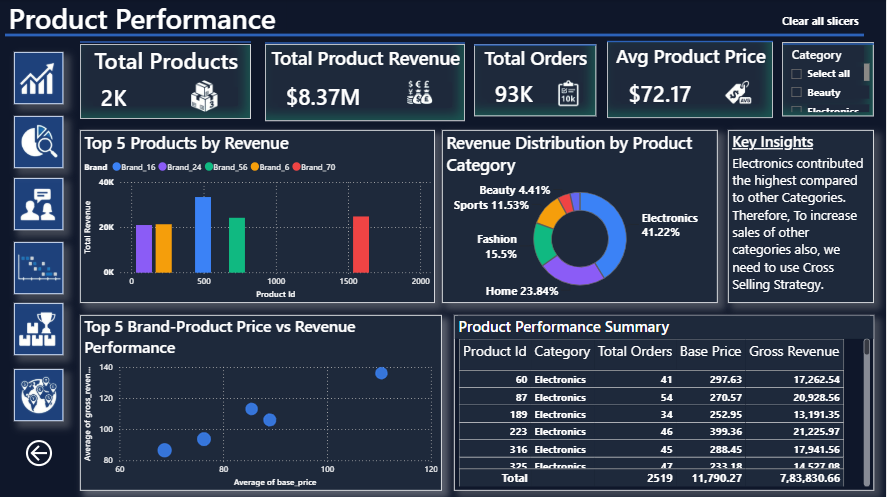

The dashboard page shown, as its layout file describes it:
{"tool":"powerbi","page":{"name":"Product Performance","canvas":[1280,720],"ordinal":5},"visuals":[{"type":"cardVisual","title":"Total Products","fields":{"Data":["Count(transactions.product_id)"]},"box":[118.1,64.8,246.2,108],"z":0},{"type":"textbox","title":"Product Performance","box":[10.1,0,404.6,51.8],"z":1000},{"type":"shape","box":[10.1,44.6,1237,14.4],"z":2000},{"type":"shape","box":[118.1,44.6,246.2,34.6],"z":3000},{"type":"cardVisual","title":"Total Product Revenue","fields":{"Data":["Sum(transactions.gross_revenue)"]},"box":[384.5,64.8,288,110.9],"z":4000},{"type":"shape","box":[384.5,46.1,288,34.6],"z":5000},{"type":"cardVisual","title":"Total Orders","fields":{"Data":["Count(transactions.transaction_id)"]},"box":[685.4,64.8,175.7,103.7],"z":6000},{"type":"shape","box":[685.4,49,175.7,34.6],"z":7000},{"type":"cardVisual","title":"Avg Product Price","fields":{"Data":["Avg(products (1).base_price)"]},"box":[877,60.5,239,110.9],"z":8000},{"type":"shape","box":[877,46.1,239,30.2],"z":9000},{"type":"columnChart","title":"Top 5 Products by Revenue","fields":{"Category":["products (1).product_id"],"Series":["products (1).brand"],"Y":["Sum(transactions.gross_revenue)"]},"box":[118.1,188.6,511.2,249.1],"z":10000},{"type":"donutChart","title":"Revenue Distribution by Product Category","fields":{"Category":["products (1).category"],"Y":["Sum(transactions.gross_revenue)"]},"box":[639.4,188.6,397.4,249.1],"z":11000},{"type":"scatterChart","title":"Top 5 Brand-Product Price vs Revenue Performance","fields":{"Category":["products (1).brand"],"Size":["Count(transactions.transaction_id)"],"X":["Avg(products (1).base_price)"],"Y":["Avg(transactions.gross_revenue)"]},"box":[118.1,455,521.3,253.4],"z":12000},{"type":"tableEx","title":"Product Performance Summary","fields":{"Values":["products (1).product_id","products (1).category","CountNonNull(transactions.transaction_id)","Sum(products (1).base_price)","Sum(transactions.gross_revenue)"]},"box":[656.6,455,604.8,253.4],"z":13000},{"type":"slicer","fields":{"Values":["products (1).category"]},"box":[1129,61.9,132.5,106.6],"z":14000},{"type":"shape","box":[1130.4,47.5,131,34.6],"z":15000},{"type":"shape","box":[23,76.3,70.6,74.9],"z":16000},{"type":"shape","box":[23,168.5,70.6,74.9],"z":17000},{"type":"shape","box":[23,257.8,70.6,74.9],"z":18000},{"type":"shape","box":[23,349.9,70.6,74.9],"z":19000},{"type":"shape","box":[23,437.8,70.6,74.9],"z":20000},{"type":"shape","box":[23,532.8,70.6,74.9],"z":21000},{"type":"image","box":[23,76.3,70.6,74.9],"z":22000},{"type":"actionButton","box":[34.6,626.4,49,54.7],"z":23000},{"type":"image","box":[23,168.5,70.6,74.9],"z":24000},{"type":"image","box":[23,257.8,70.6,74.9],"z":25000},{"type":"image","box":[23,349.9,70.6,74.9],"z":26000},{"type":"image","box":[23,437.8,70.6,74.9],"z":27000},{"type":"image","box":[23,532.8,70.6,74.9],"z":28000},{"type":"image","box":[270.7,112.3,53.3,56.2],"z":29000},{"type":"image","box":[574.6,112.3,64.8,51.8],"z":30000},{"type":"image","box":[794.9,112.3,53.3,51.8],"z":31000},{"type":"image","box":[1036.8,112.3,57.6,51.8],"z":32000},{"type":"actionButton","box":[1107.4,10.1,154.1,41.8],"z":33000},{"type":"textbox","title":"Key Insights","box":[1051.2,188.6,210.2,249.1],"z":34000}]}

Visuals, with their boxes on the page's 1280x720 design canvas (x1, y1, x2, y2). These are canvas units, not pixel positions in the 887x497 screenshot, which may show the page scaled, cropped or inside an application window:
"Total Products" cardVisual: [118,65,364,173]
"Product Performance" textbox: [10,0,415,52]
shape: [10,45,1247,59]
shape: [118,45,364,79]
"Total Product Revenue" cardVisual: [384,65,672,176]
shape: [384,46,672,81]
"Total Orders" cardVisual: [685,65,861,168]
shape: [685,49,861,84]
"Avg Product Price" cardVisual: [877,60,1116,171]
shape: [877,46,1116,76]
"Top 5 Products by Revenue" columnChart: [118,189,629,438]
"Revenue Distribution by Product Category" donutChart: [639,189,1037,438]
"Top 5 Brand-Product Price vs Revenue Performance" scatterChart: [118,455,639,708]
"Product Performance Summary" tableEx: [657,455,1261,708]
slicer - products (1).category: [1129,62,1262,168]
shape: [1130,48,1261,82]
shape: [23,76,94,151]
shape: [23,168,94,243]
shape: [23,258,94,333]
shape: [23,350,94,425]
shape: [23,438,94,513]
shape: [23,533,94,608]
image: [23,76,94,151]
actionButton: [35,626,84,681]
image: [23,168,94,243]
image: [23,258,94,333]
image: [23,350,94,425]
image: [23,438,94,513]
image: [23,533,94,608]
image: [271,112,324,168]
image: [575,112,639,164]
image: [795,112,848,164]
image: [1037,112,1094,164]
actionButton: [1107,10,1262,52]
"Key Insights" textbox: [1051,189,1261,438]
